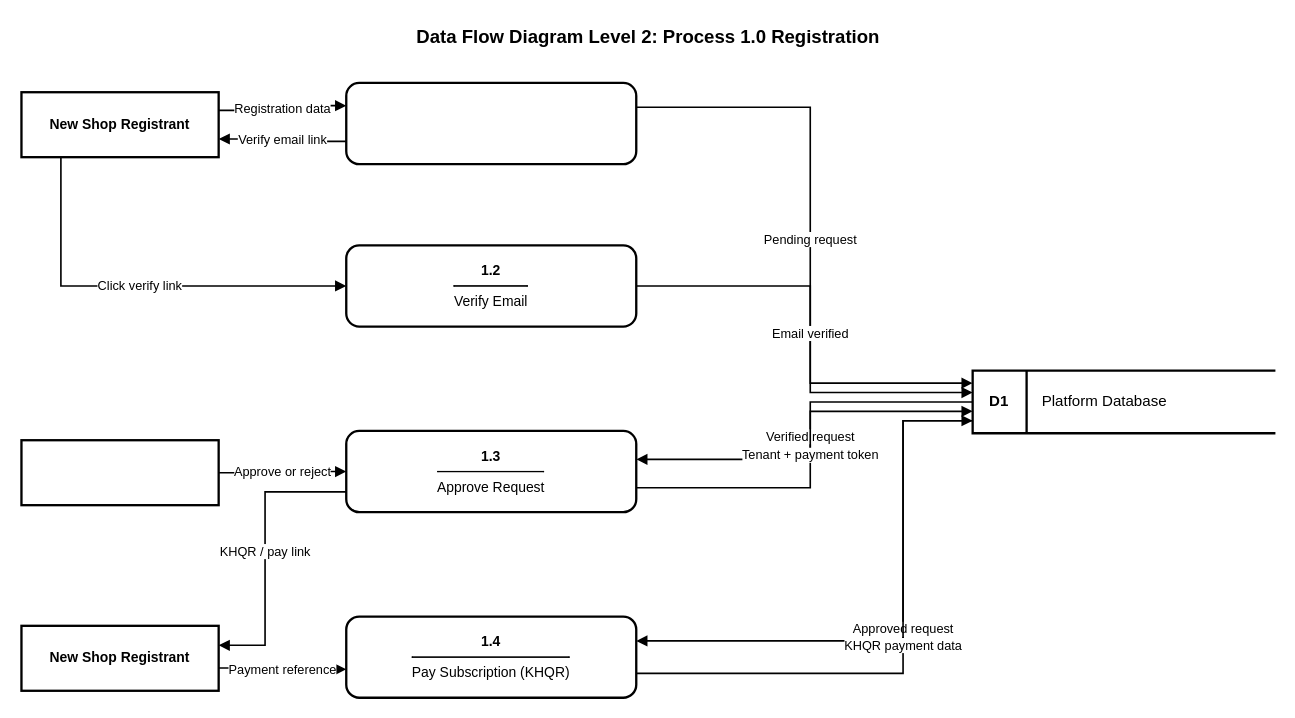
This 1295x718 diagram has some shape labels left out. Here are the shapes that lost their labels. From the top down, the centre of each, then its label:
At point (491, 123): "1.1 Submit Registration".
At point (119, 472): "Super Admin".
